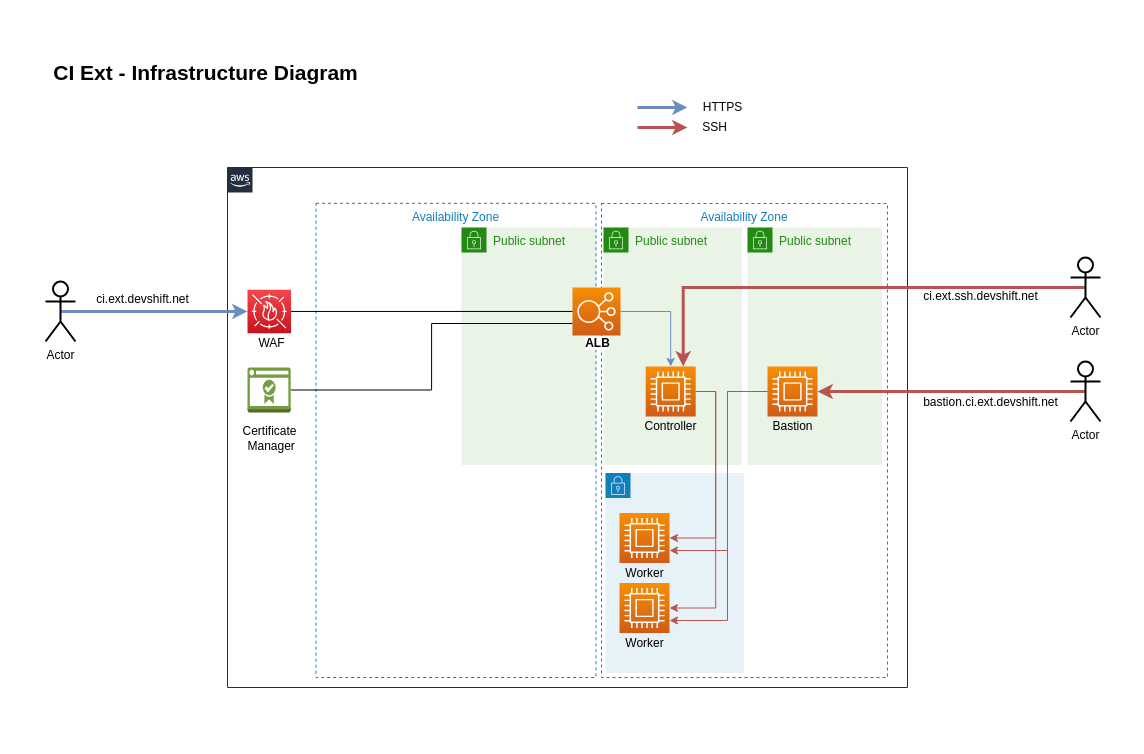
This 1144x754 diagram has some shape labels left out. Each missing label, with the box of its shape:
AppSre: (226, 166, 908, 688)
Private subnet: (604, 472, 744, 673)
